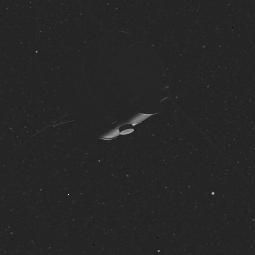double_start: (54, 36, 192, 156)
